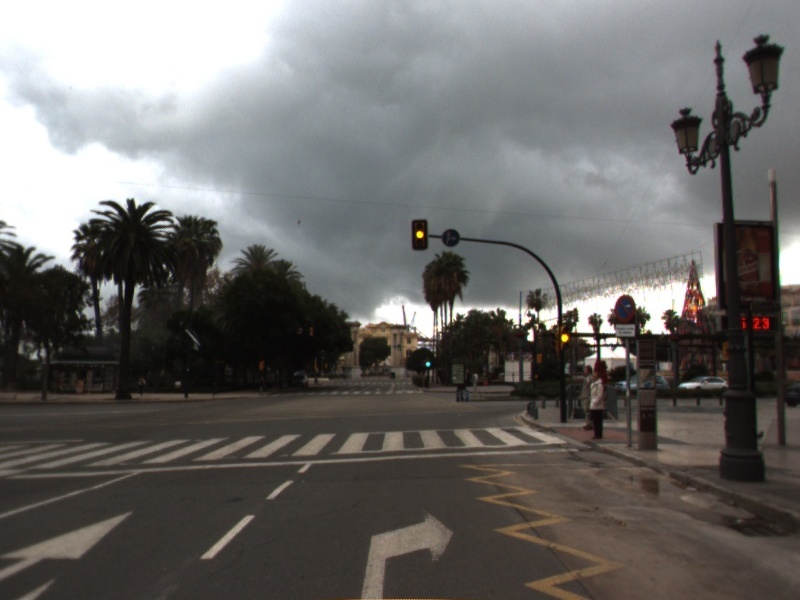RIGHT: (359, 504, 458, 600)
STRAIGHT: (1, 505, 140, 583)
